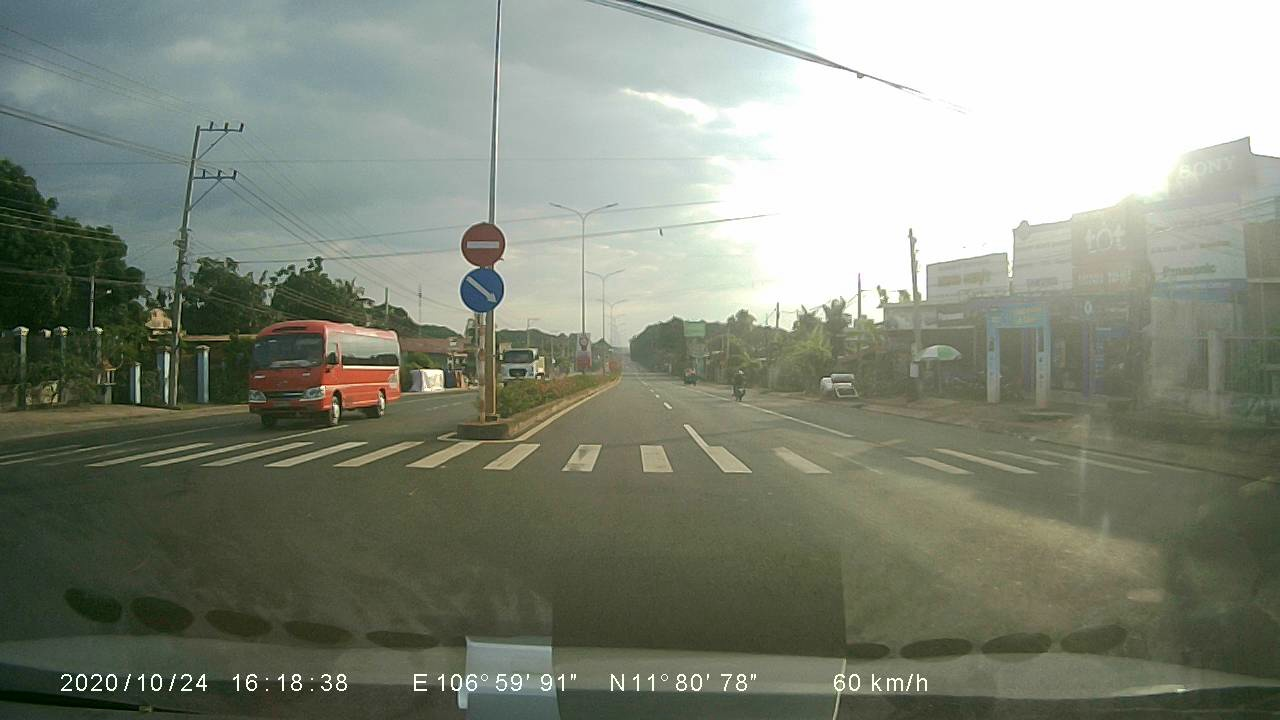Cam di nguoc chieu: (456, 219, 509, 266)
Huong di phai re phai: (456, 266, 507, 313)
